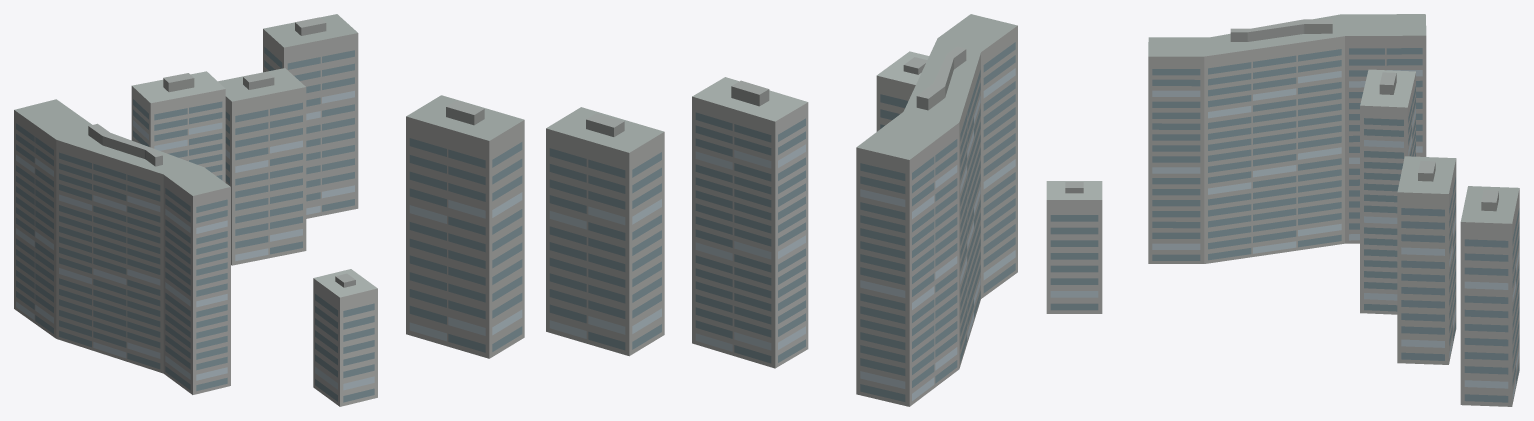
The model's file is apt-a15380101.glb.
The picture shows the model from 3 angles, left to right: view 1: azimuth 30°, elevation 25°; view 2: azimuth 150°, elevation 25°; view 3: azimuth 270°, elevation 25°; orthographic projection. The views are drawn at different scales.
Visible parts, largest first — view 1: apt-a15380101; view 2: apt-a15380101; view 3: apt-a15380101.
Boxes of the visible parts, left/top/right/bottom form: apt-a15380101: left=14, top=14, right=377, bottom=406; apt-a15380101: left=406, top=14, right=1017, bottom=406; apt-a15380101: left=1046, top=14, right=1519, bottom=406.
Size of the model in its own units: 93.35 by 51 by 101.
